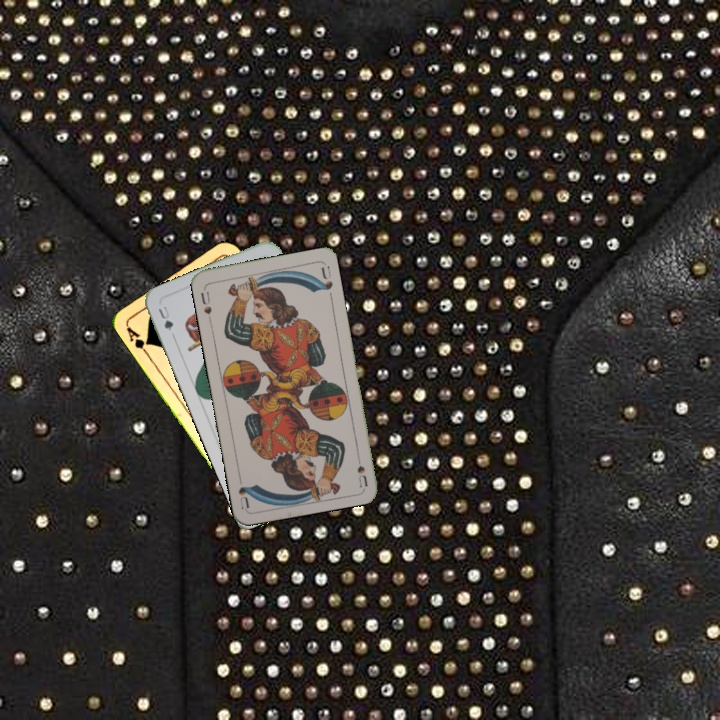GA: (122, 322, 153, 358)
GU: (154, 302, 176, 334)
SU: (196, 284, 214, 324), (352, 448, 370, 488)
